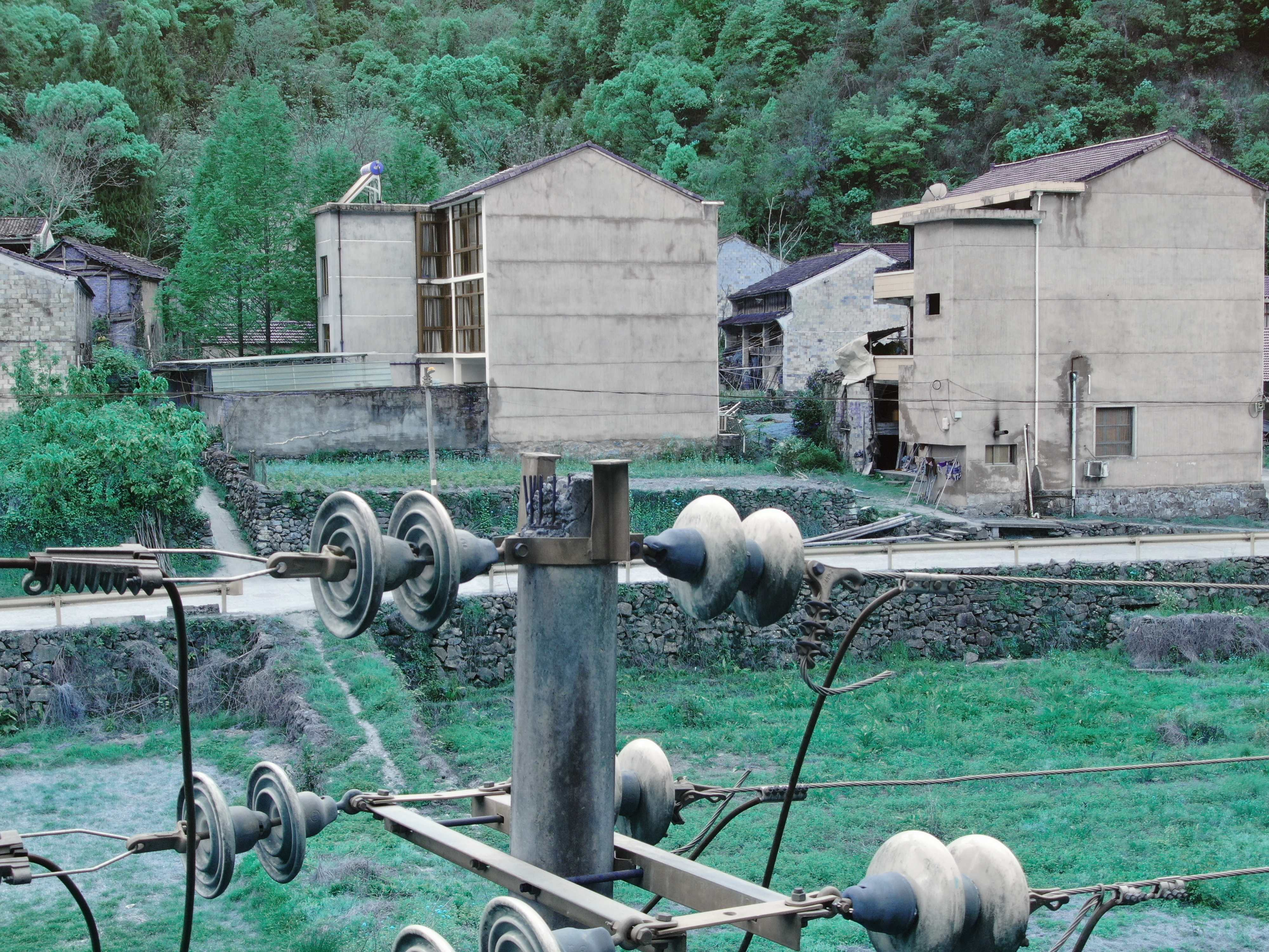severe_soiling_no_discharge_whole: (299, 482, 505, 647), (169, 758, 343, 903), (838, 824, 1033, 951), (639, 485, 809, 628), (614, 735, 677, 846)
